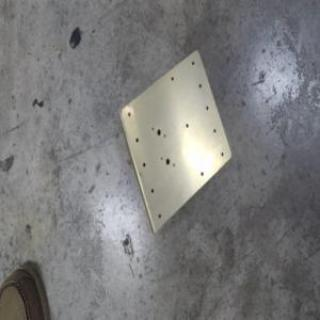MetalSheettrack_idkeyframe: (116, 47, 230, 235)
